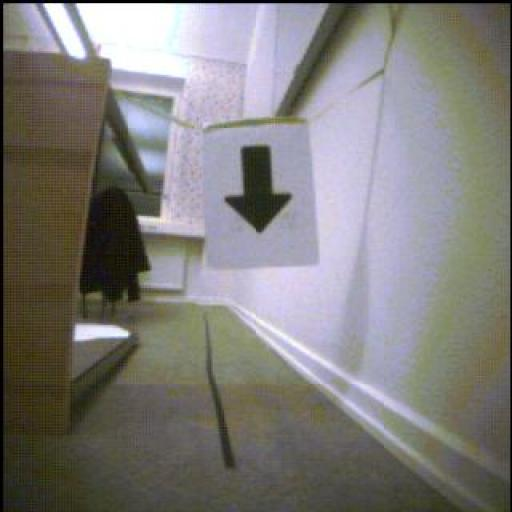Arrow: (227, 147, 292, 233)
